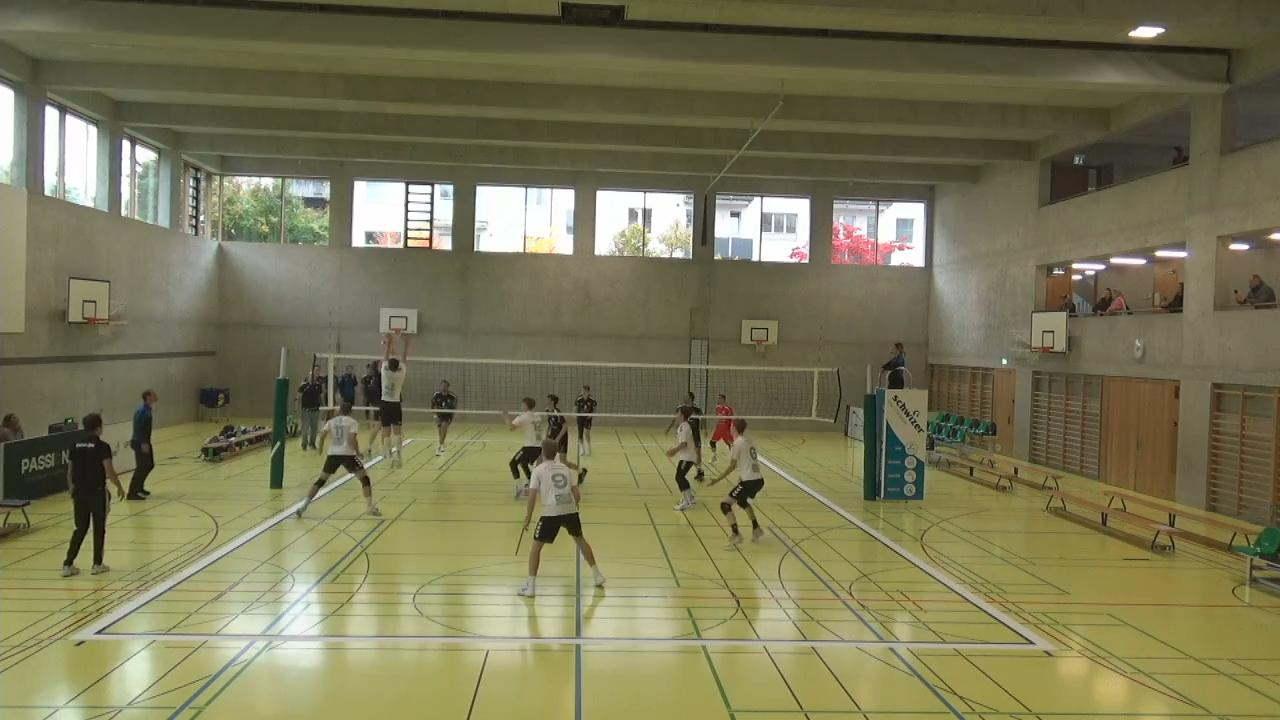Block: (375, 326, 413, 469)
Player: (518, 436, 605, 593), (292, 401, 379, 522), (705, 420, 764, 543), (505, 397, 542, 497), (668, 404, 701, 513), (674, 390, 704, 471), (707, 393, 738, 470), (543, 393, 573, 471), (573, 383, 596, 468), (429, 379, 456, 451)
